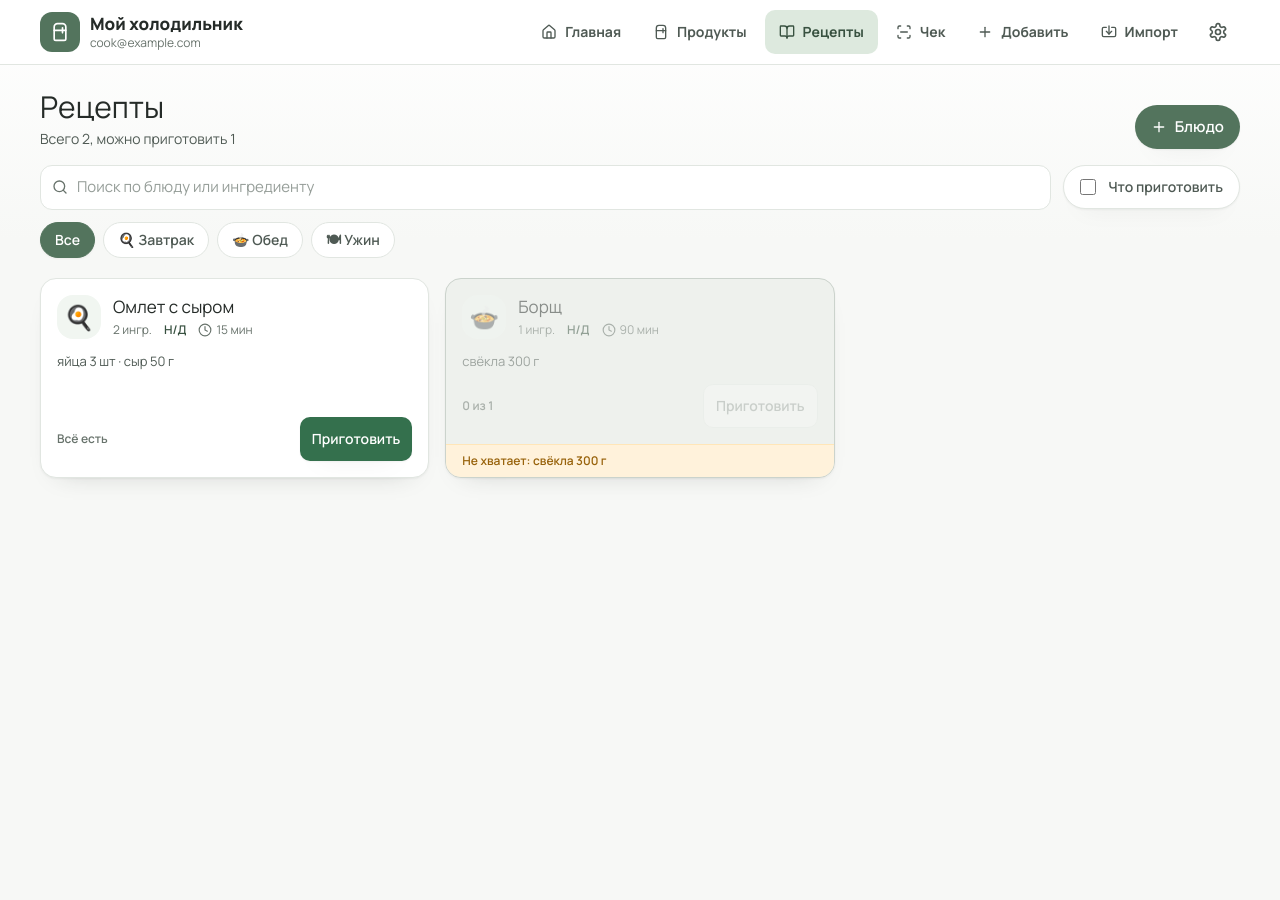
it: Подсказки ингредиентов из холодильника › Escape закрывает список, введённый текст остаётся
Expected: the text "Омлет с сыром" is shown, x1=113 y1=294 x2=234 y2=318
Click the link "Добавить" at (1023, 32), box x1=977 y1=22 x2=1069 y2=41
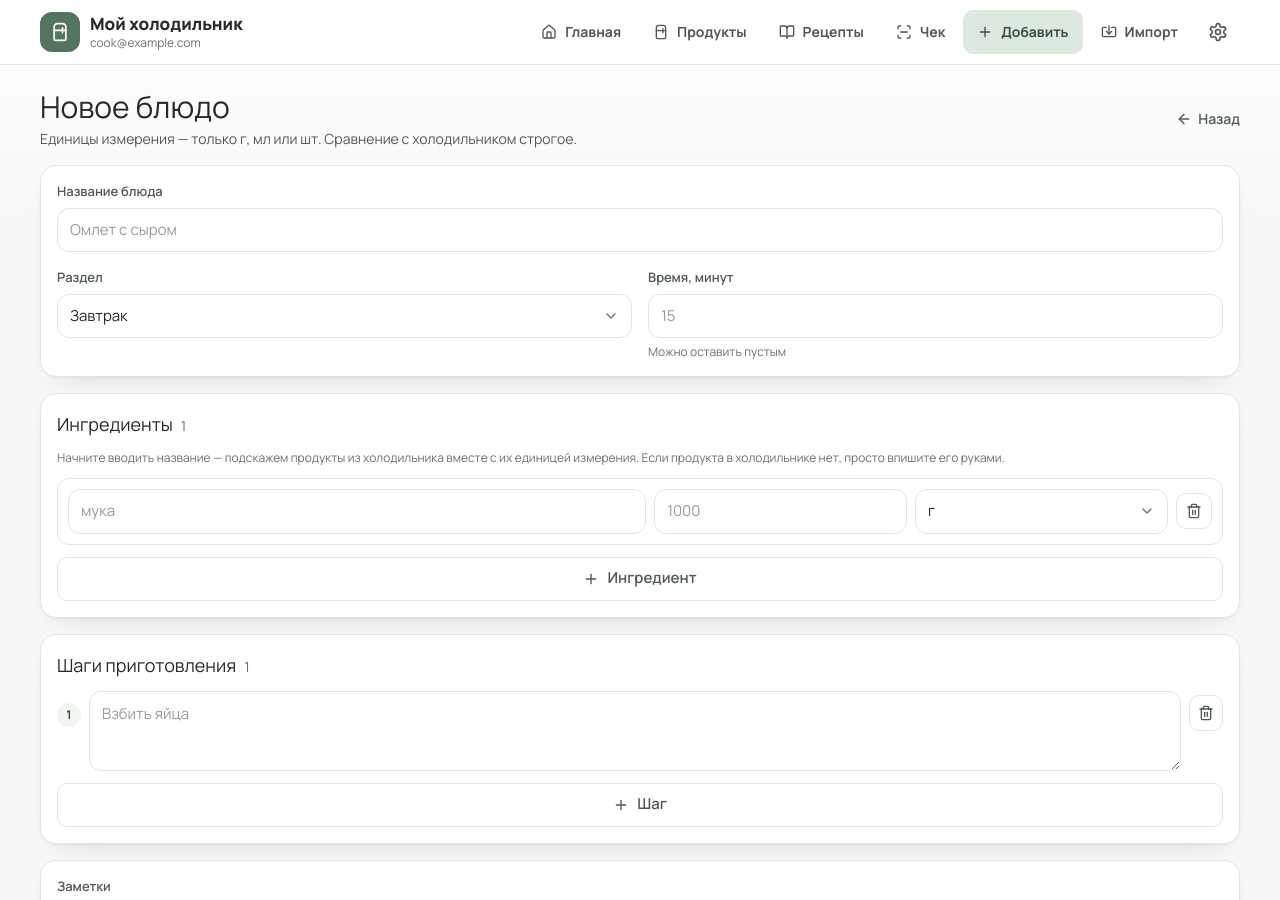
Expected: the dropdown named "Название ингредиента №1" is shown
Type "ог" into the dropdown named "Название ингредиента №1" at (357, 511), box x1=68 y1=489 x2=646 y2=534
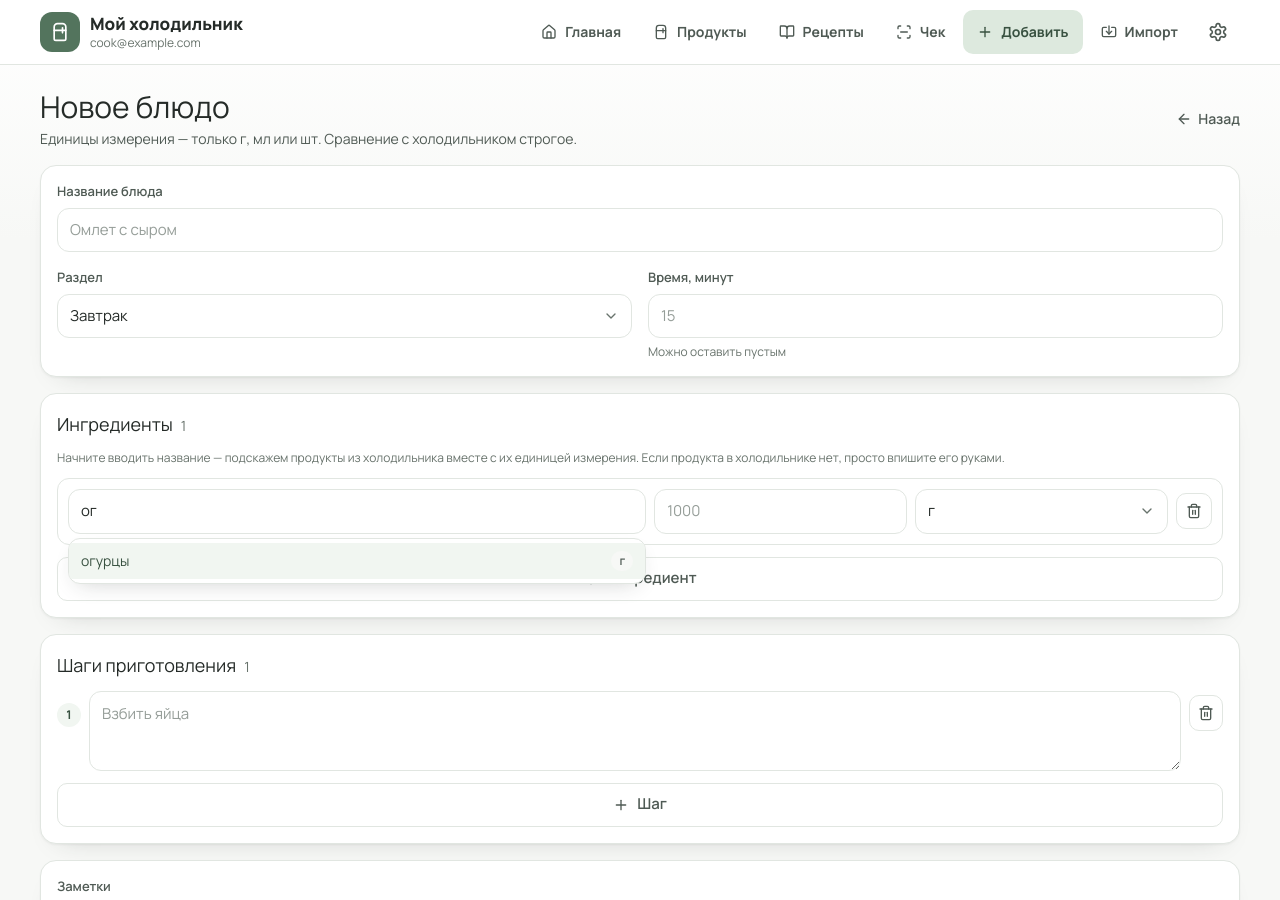
Expected: the list is shown, x1=68 y1=538 x2=646 y2=584
Press Escape in the dropdown named "Название ингредиента №1", box x1=68 y1=489 x2=646 y2=534
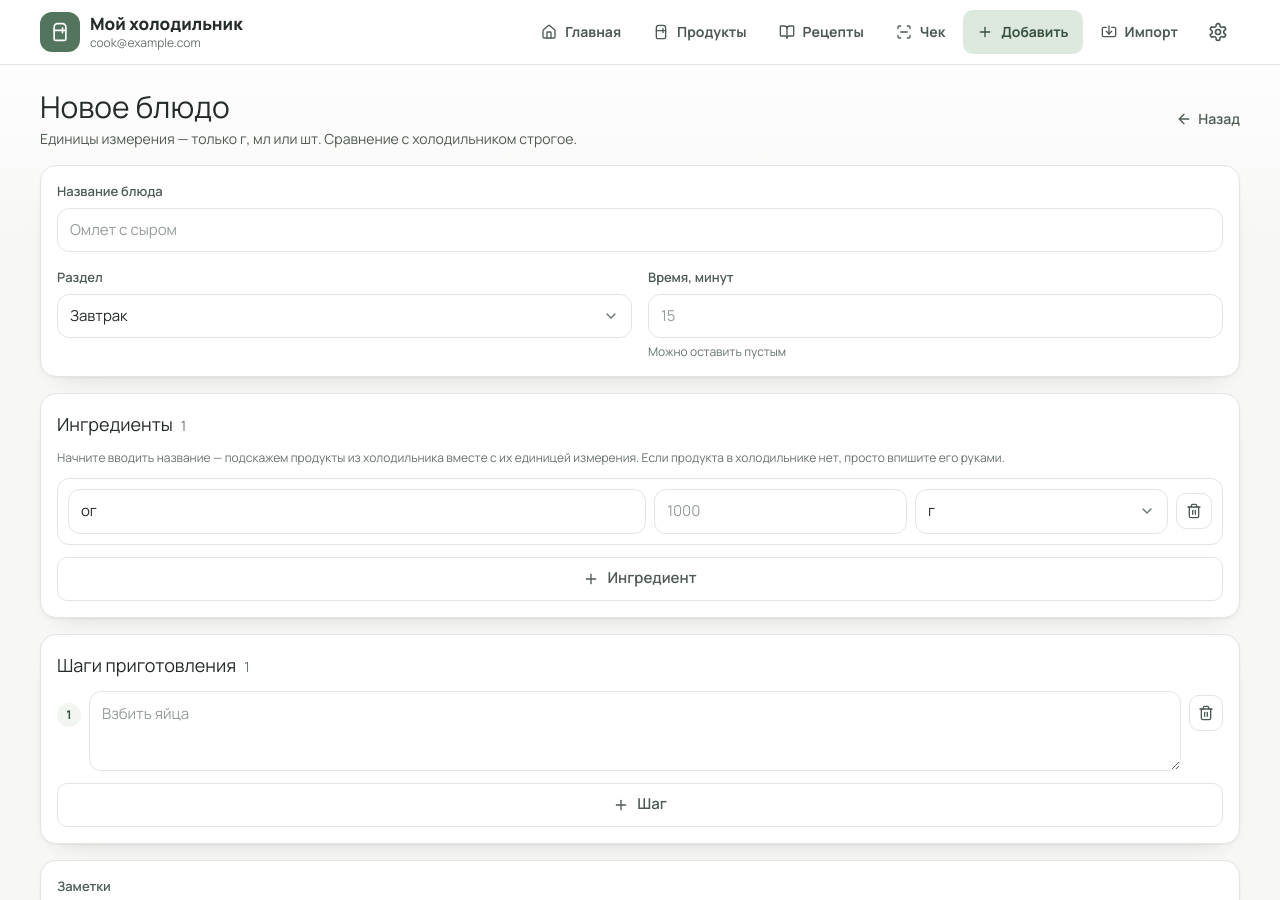
Expected: the list is gone
